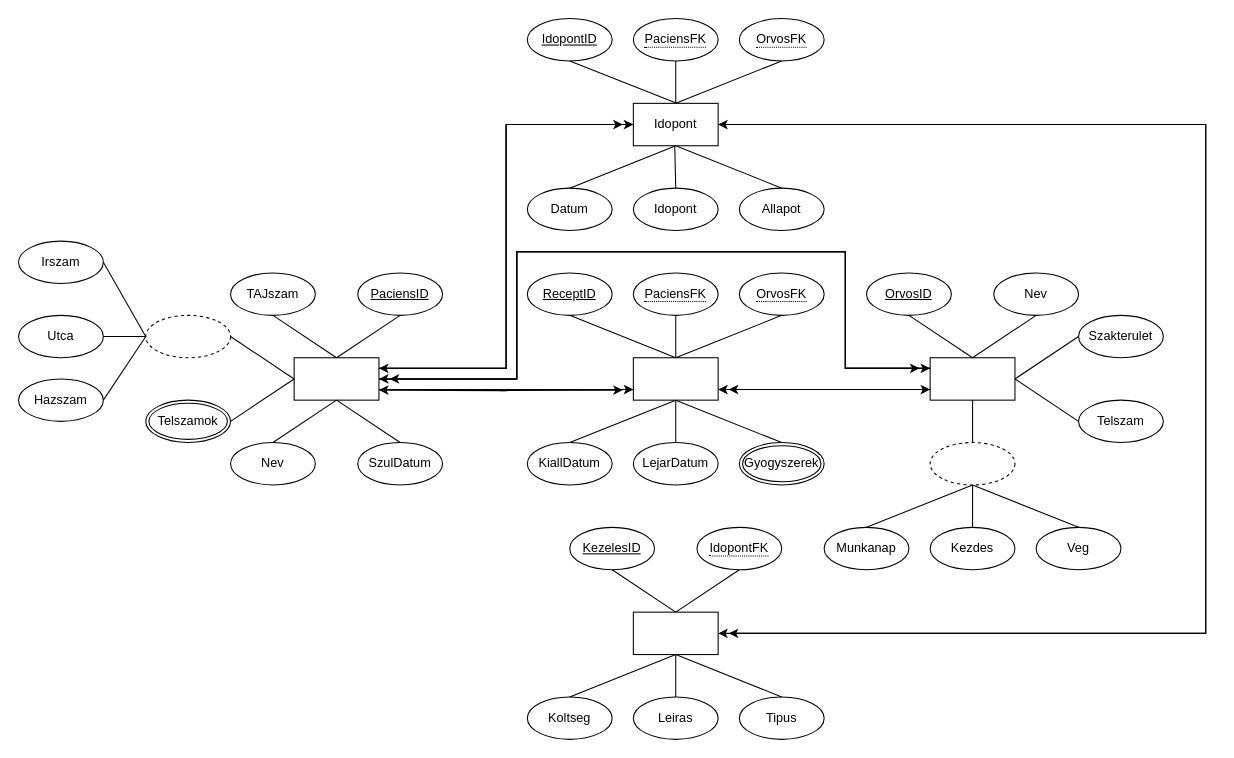
Image size: 1234x758. Some labels were removed from this diagram. Each missing label, with the centre of its shape:
"Beosztas" goes at pixel 972 463.
"Kezeles" goes at pixel 675 633.
"Lakcim" goes at pixel 188 336.
"Orvos" goes at pixel 972 378.
"Paciens" goes at pixel 336 378.
"Recept" goes at pixel 675 378.
